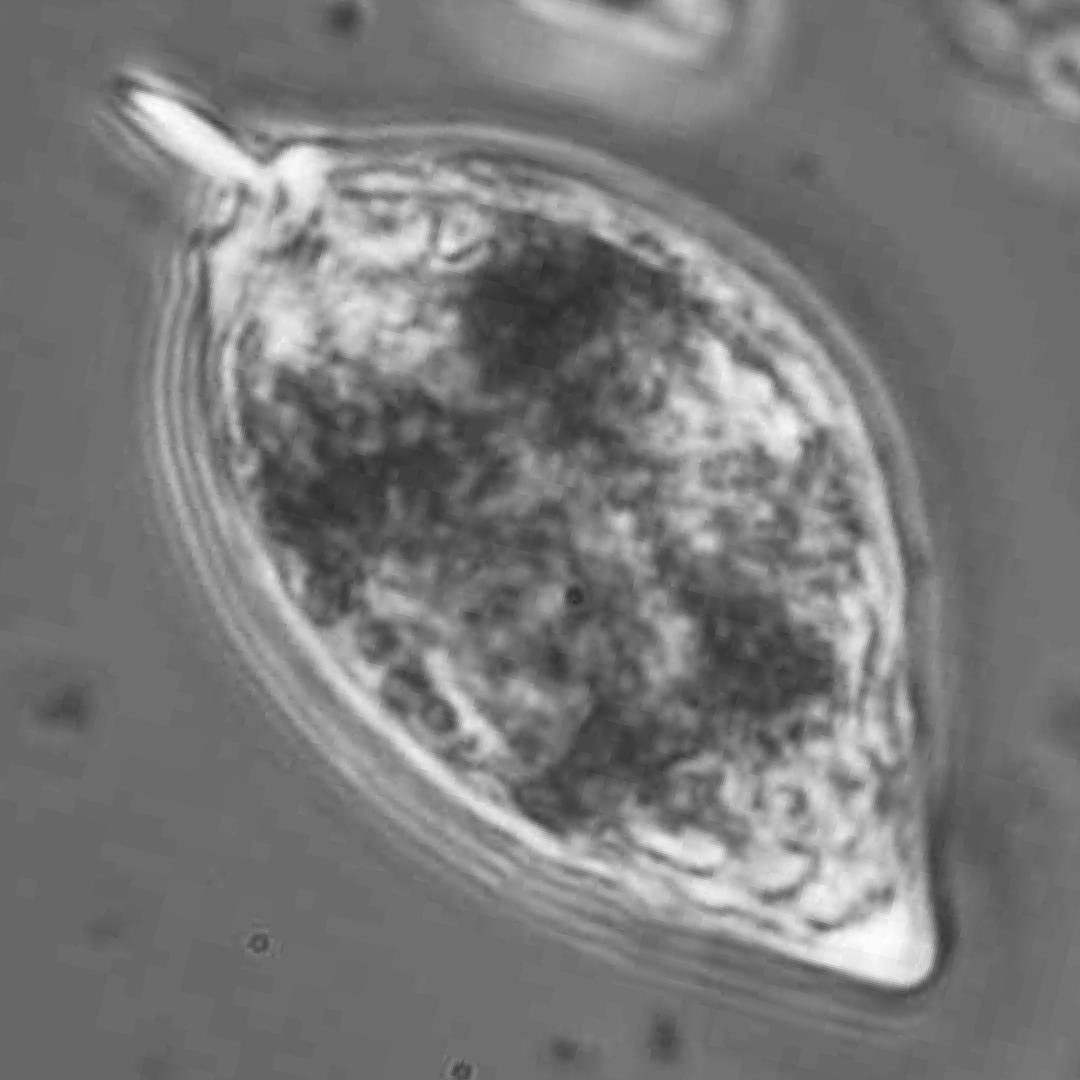prorocentrum_micans: (115, 82, 946, 1001)
